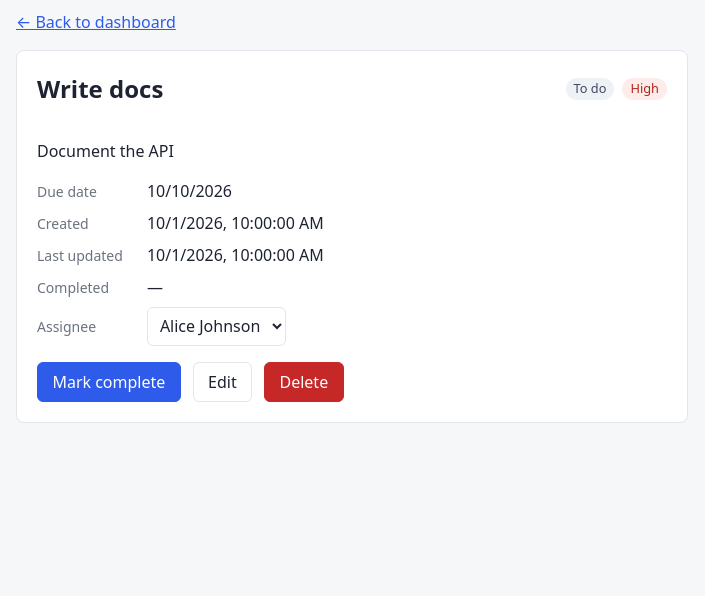
it: TaskDetailsPage › edits the task and shows the updated values
Expected: the heading "Write docs" is shown, top-left (37, 71), bottom-right (163, 107)
Click the button "Edit" at (222, 382), box top-left (193, 362), bottom-right (252, 402)
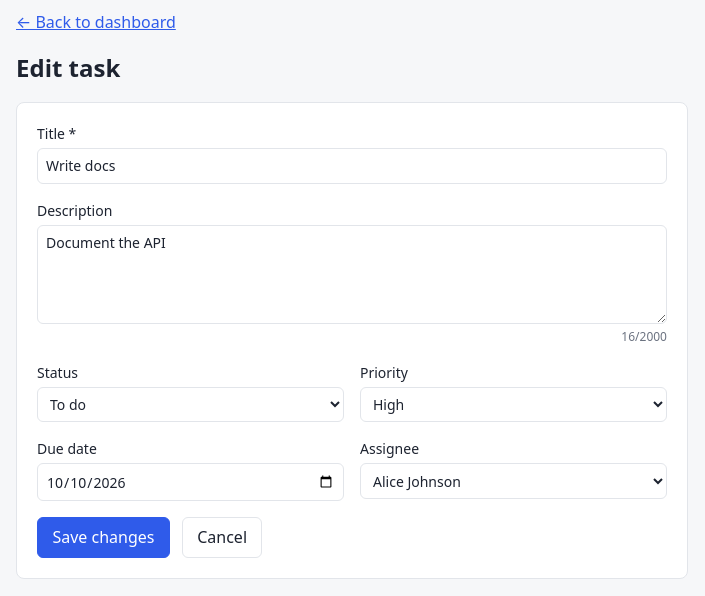
Replace the text in the field labelled "Title *" with "Write better docs" at (352, 166), box top-left (37, 148), bottom-right (667, 184)
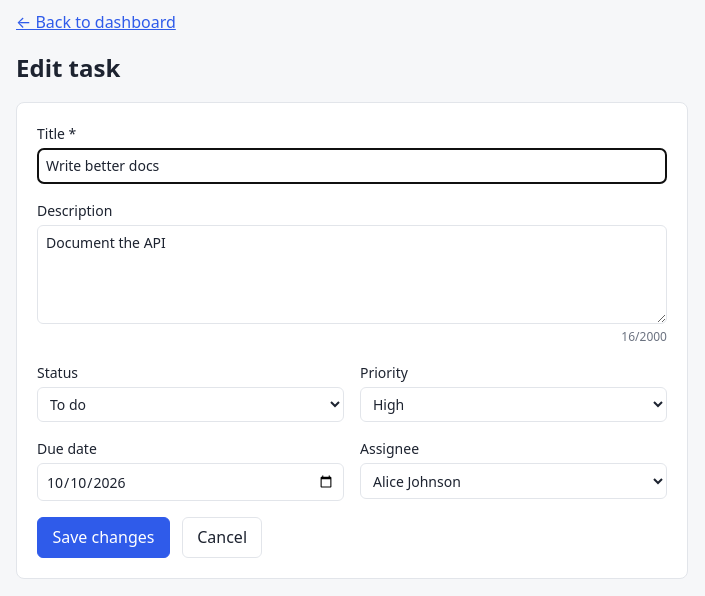
Select "In progress" in the dropdown labelled "Status" at (190, 404), box top-left (37, 387), bottom-right (344, 422)
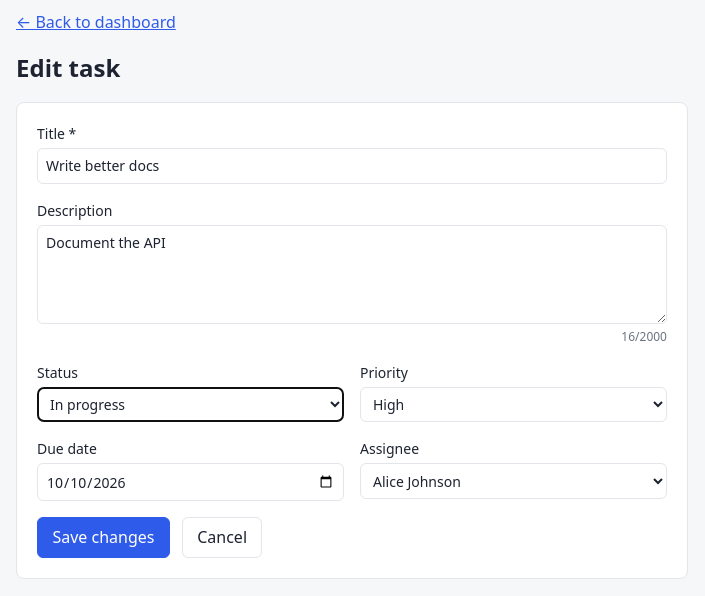
Click the button "Save changes" at (103, 537), box top-left (37, 517), bottom-right (170, 558)
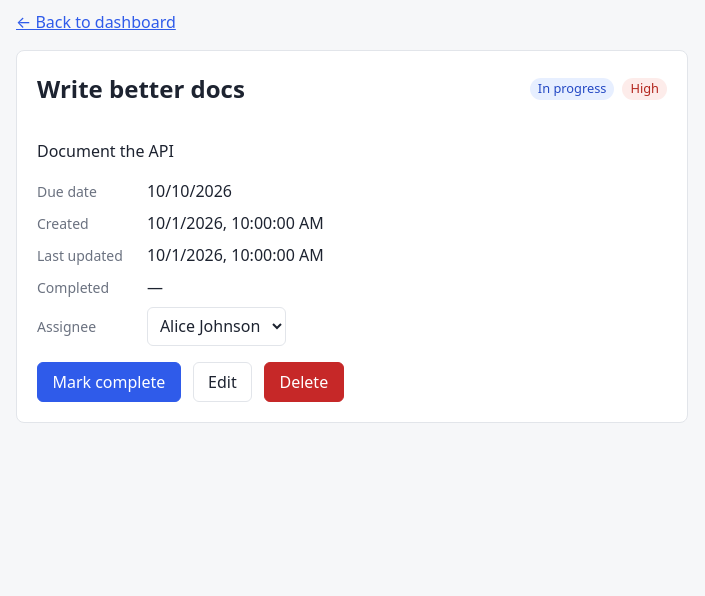
Expected: the heading "Write better docs" is shown, top-left (37, 71), bottom-right (245, 107)
